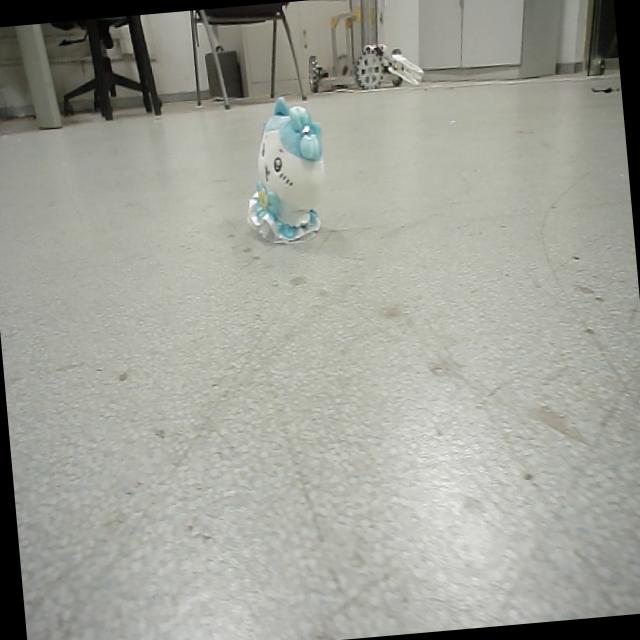xiaoba: (230, 93, 335, 254)
